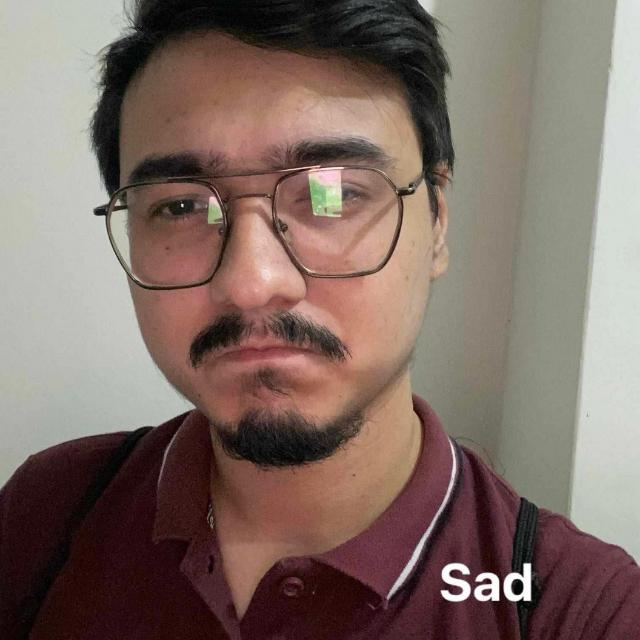Sad: (86, 50, 493, 505)
